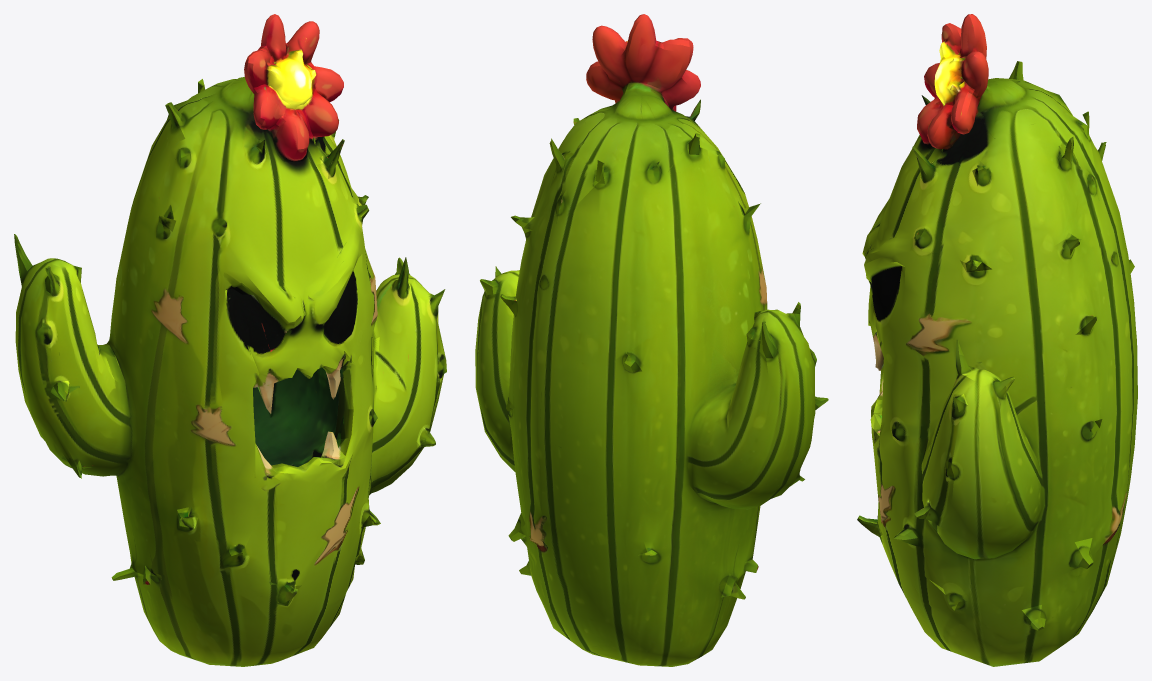
File: cactus.glb
3 renders of one model, left to right at view 1: azimuth 30°, elevation 25°; view 2: azimuth 150°, elevation 25°; view 3: azimuth 270°, elevation 25°, orthographic. The views are drawn at different scales.
Visible parts, largest first — view 1: Mesh0; view 2: Mesh0; view 3: Mesh0.
Boxes of the visible parts, x1,y1,x2,y2 form: Mesh0: (14,14,446,666); Mesh0: (475,14,828,666); Mesh0: (857,14,1137,666).
Bounding box in the file's own units: 1.18 × 1.9 × 0.7644.
1 material, 1 textured.
